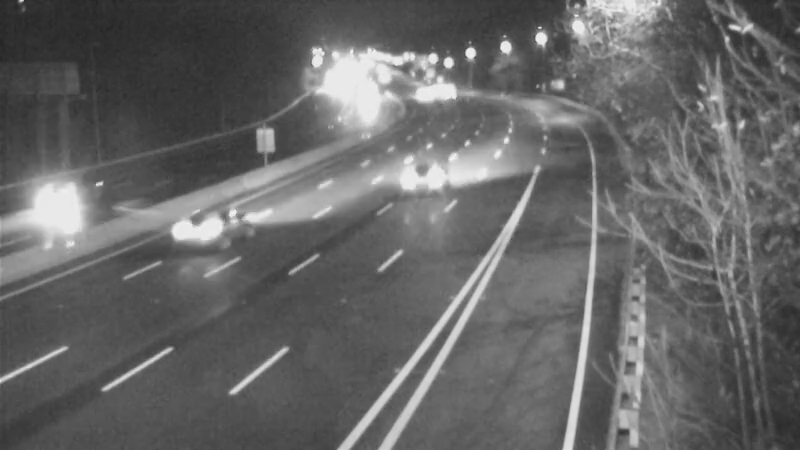vehicle: (394, 139, 474, 219), (135, 183, 215, 263), (14, 158, 94, 238), (397, 67, 447, 117), (413, 73, 463, 123)
